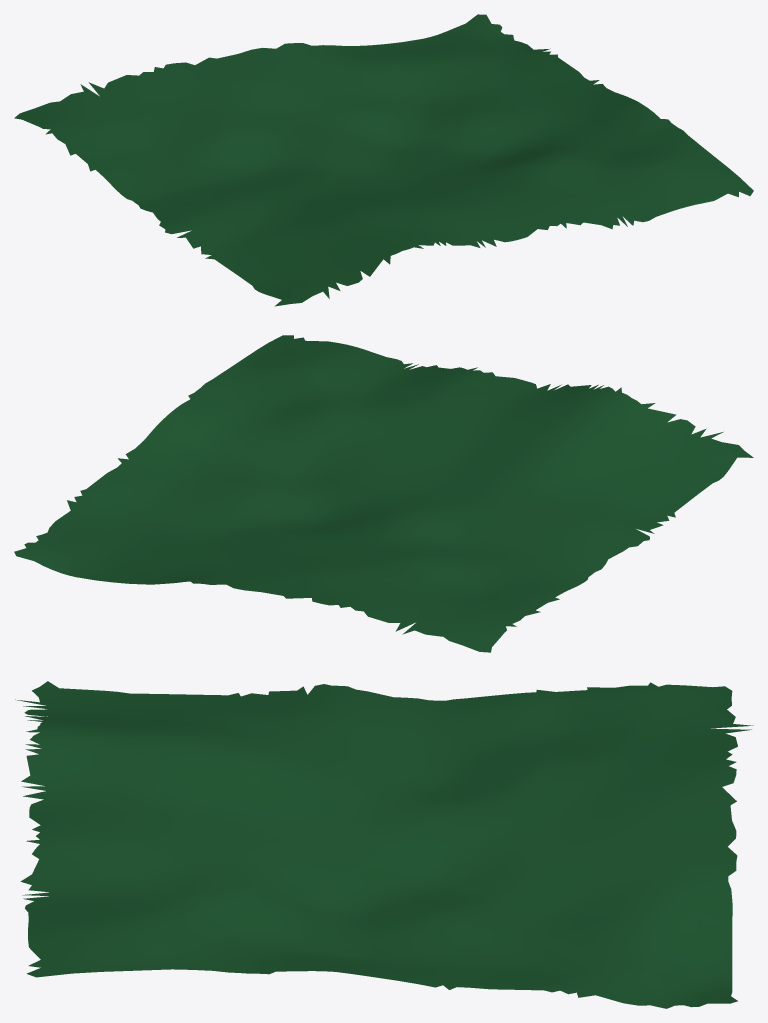
Rendered from payo_land_x3_ym3_lod1.glb.
3 views of the same model, one above another, from view 1: azimuth 30°, elevation 25°; view 2: azimuth 150°, elevation 25°; view 3: azimuth 270°, elevation 25° (orthographic). The views are drawn at different scales.
Visible parts, largest first — view 1: payo_land_x3_ym3; view 2: payo_land_x3_ym3; view 3: payo_land_x3_ym3.
Part boxes in pixels (x1,y1,x2,y2): payo_land_x3_ym3: [14, 14, 753, 306]; payo_land_x3_ym3: [14, 335, 753, 652]; payo_land_x3_ym3: [15, 681, 753, 1008].
Size of the model in its own units: 265 by 29.36 by 271.
